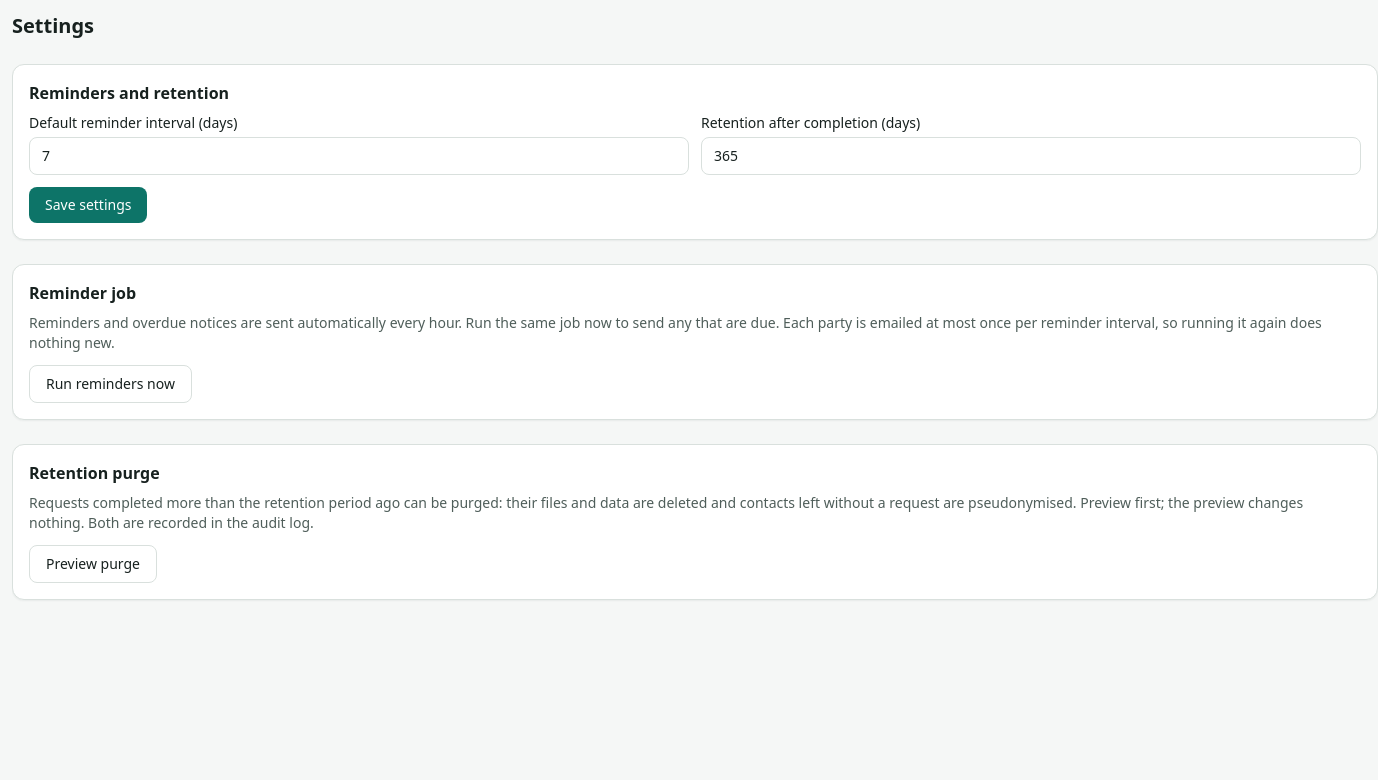
Test case: SettingsPage › loads and saves the settings
Replace the text in the number field labelled "Default reminder interval (days)" with "3" at point(359, 156), box top-left (29, 137), bottom-right (689, 175)
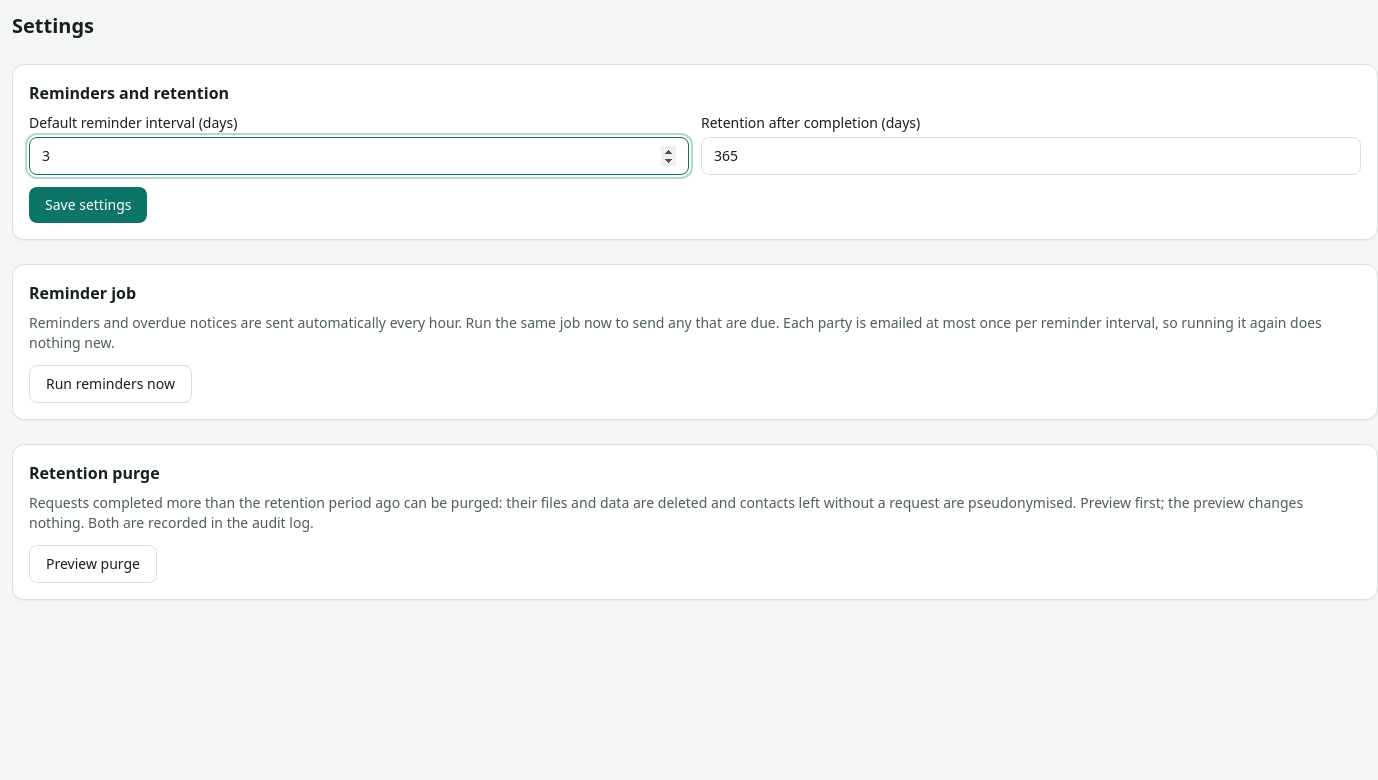
Click the button "Save settings" at point(88, 205), box top-left (29, 187), bottom-right (148, 223)
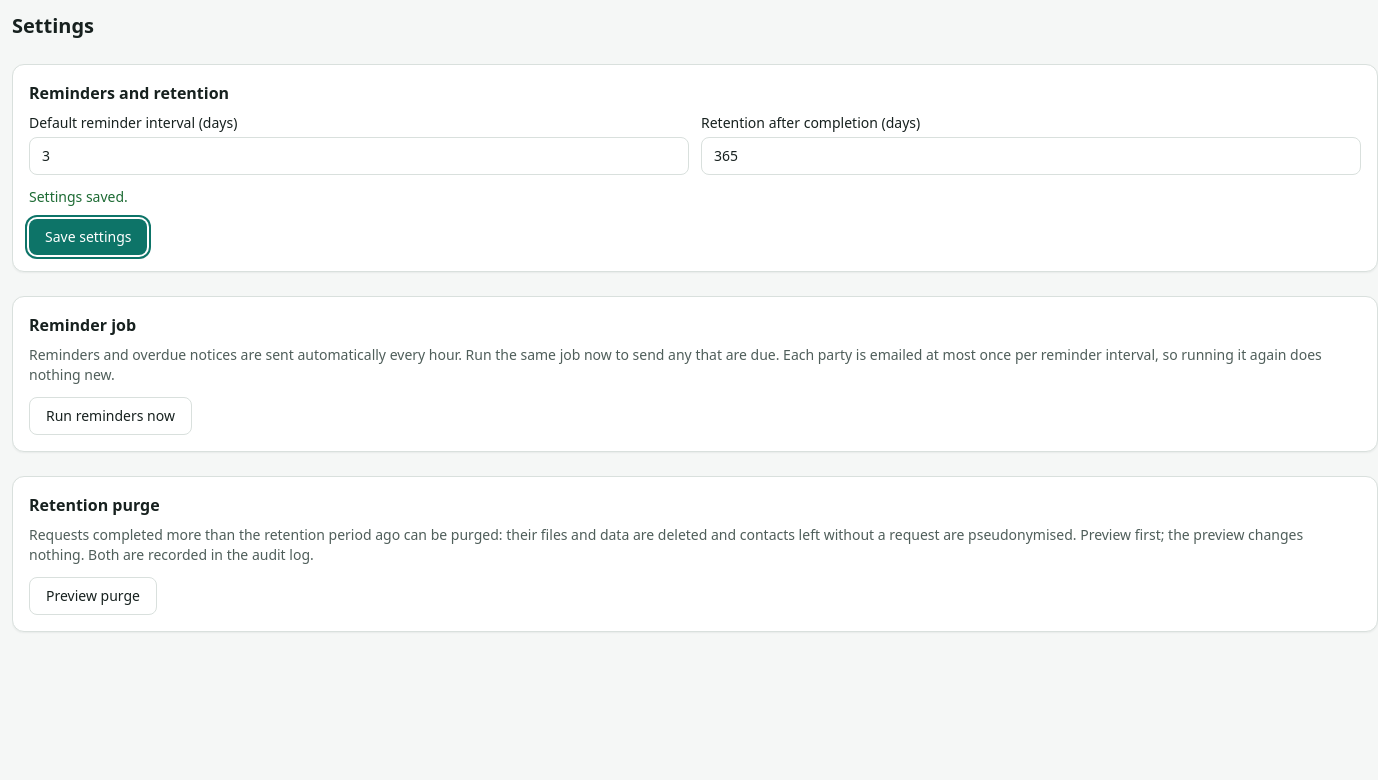
Now the message reads "Settings saved.", box top-left (29, 187), bottom-right (128, 206)
